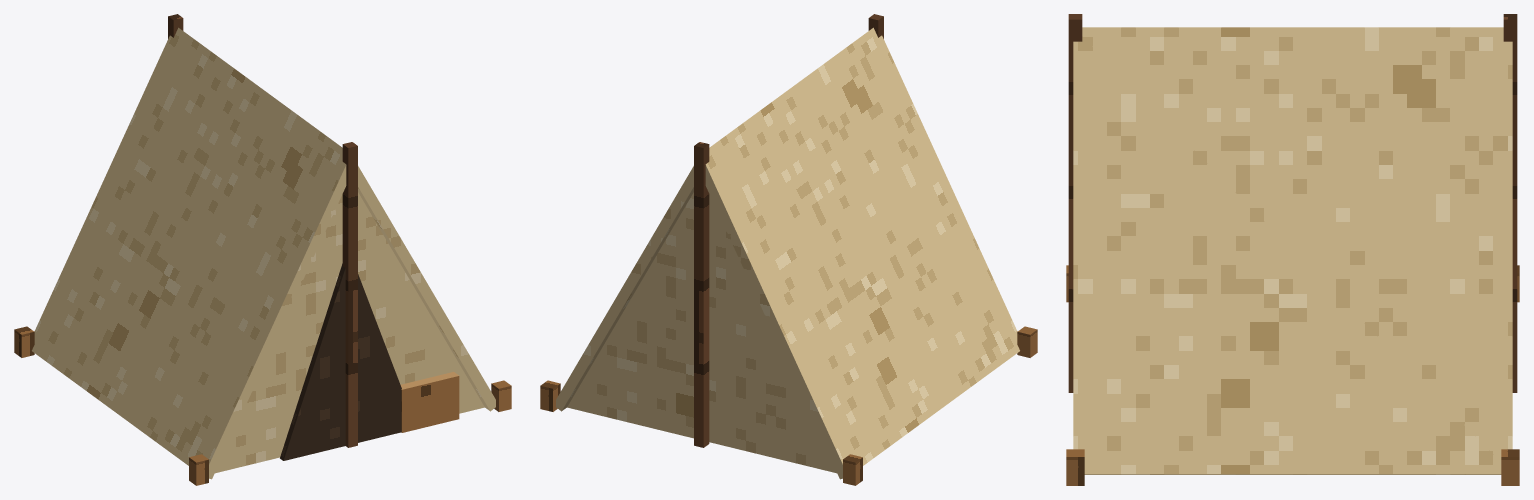
The model's file is tent.glb.
The picture shows the model from 3 angles, left to right: view 1: azimuth 30°, elevation 25°; view 2: azimuth 150°, elevation 25°; view 3: azimuth 270°, elevation 25°; orthographic projection. The views are drawn at different scales.
Parts seen in each view (by area): view 1: tent; view 2: tent; view 3: tent.
Part boxes in pixels (left/top/right/bottom): tent: left=14, top=14, right=511, bottom=485; tent: left=540, top=14, right=1037, bottom=485; tent: left=1066, top=14, right=1519, bottom=485.
Bounding box in the file's own units: 1.98 × 1.8 × 1.98.
Materials: 5 (5 with a texture image).
